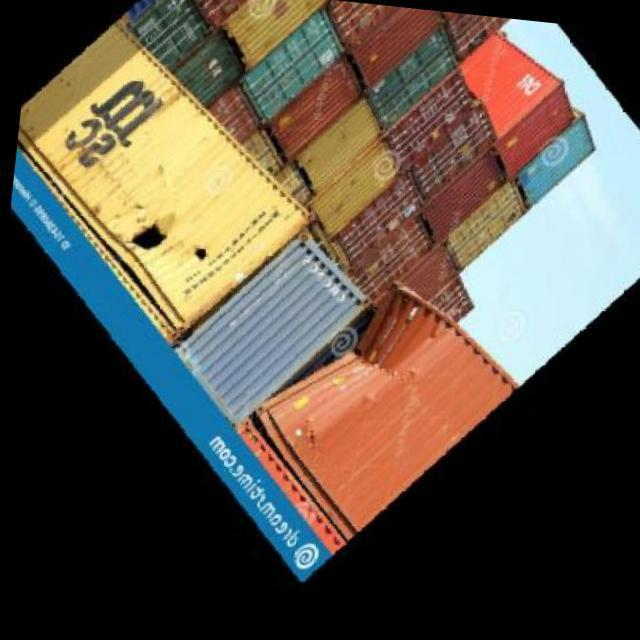hole: (126, 224, 171, 251), (196, 248, 209, 262)
